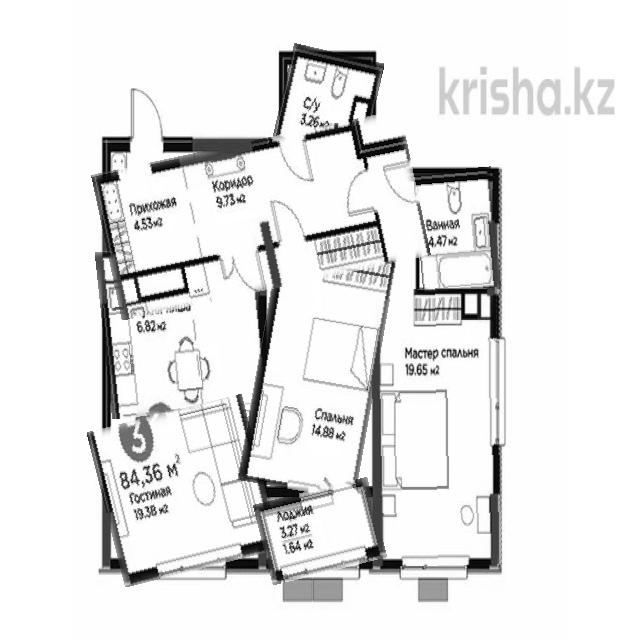balcony: (257, 482, 383, 578)
bathroom: (276, 48, 379, 158), (415, 168, 499, 294)
hallway: (91, 126, 430, 276)
kitchen: (99, 240, 267, 416)
living_room: (248, 238, 387, 496), (372, 287, 500, 566), (95, 403, 272, 579)
